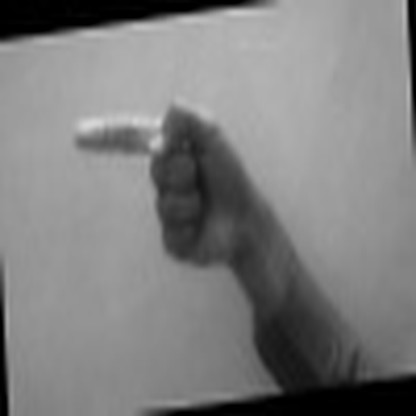g: (67, 97, 259, 269)
